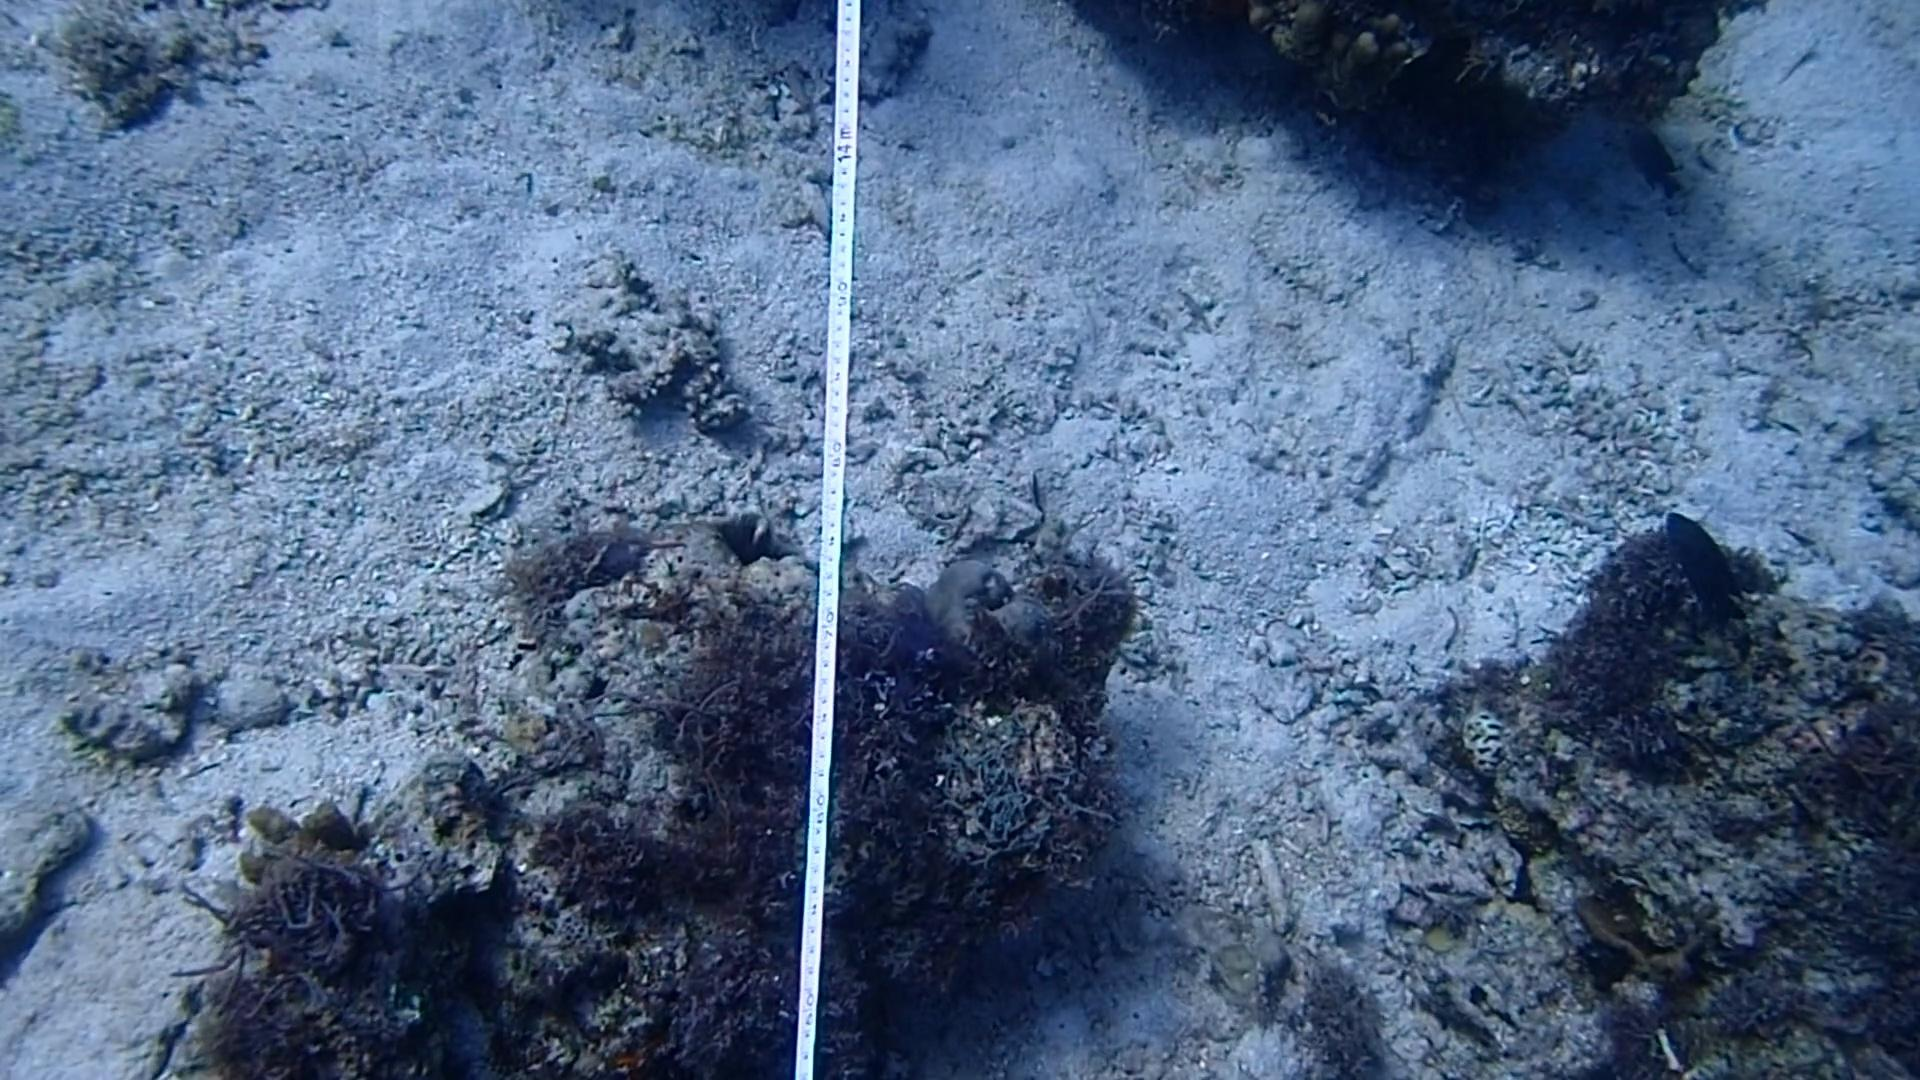Dark Fish: (1658, 497, 1749, 624), (1611, 117, 1700, 200)
